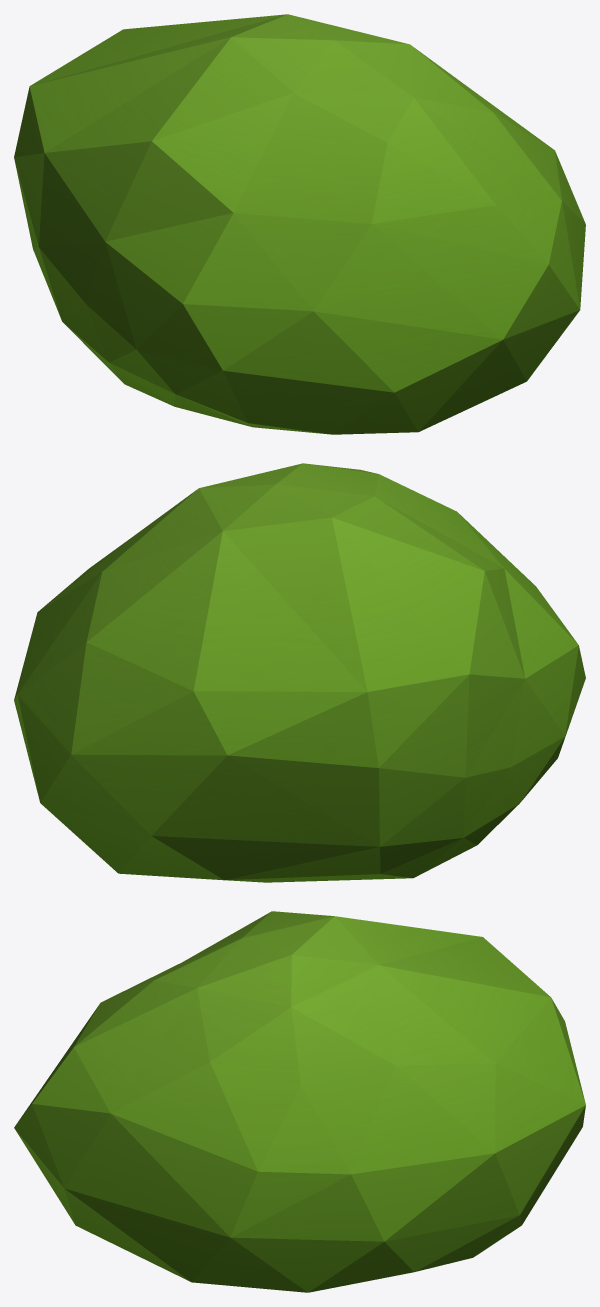
The model's file is Bush_02.fbx.
3 views of the same model, one above another, from view 1: azimuth 30°, elevation 25°; view 2: azimuth 150°, elevation 25°; view 3: azimuth 270°, elevation 25° (orthographic). The views are drawn at different scales.
Visible parts, largest first — view 1: Bush_02; view 2: Bush_02; view 3: Bush_02.
Boxes of the visible parts, <box> form: Bush_02: <box>14,14,585,434</box>; Bush_02: <box>14,463,585,882</box>; Bush_02: <box>14,911,585,1292</box>.
Size of the model in its own units: 139 by 93.9 by 169.
